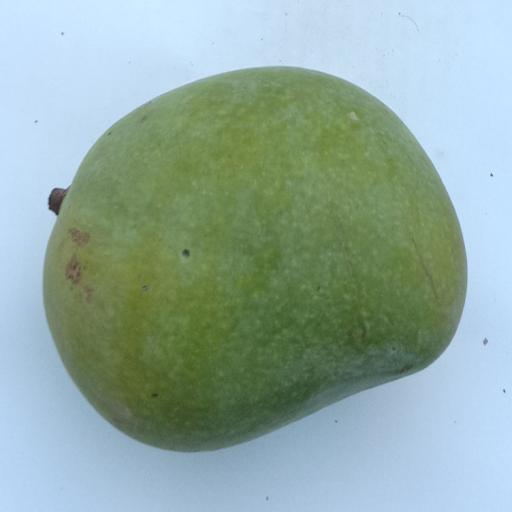mango-unripe: (39, 35, 479, 445)
